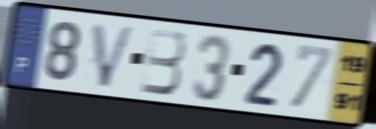2: (240, 37, 289, 110)
3: (191, 31, 232, 105)
7: (290, 41, 335, 112)
8: (44, 19, 82, 82)
B: (139, 26, 187, 98)
V: (90, 20, 139, 90)
